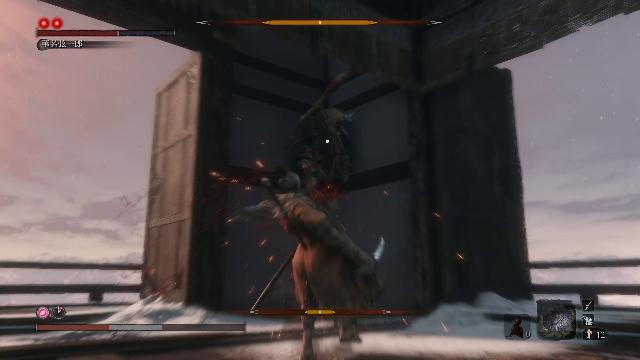sk: (246, 165, 386, 357)
